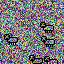sheep: (39, 21, 54, 34), (3, 34, 19, 46), (41, 35, 55, 48), (28, 55, 43, 64), (44, 55, 59, 64)
